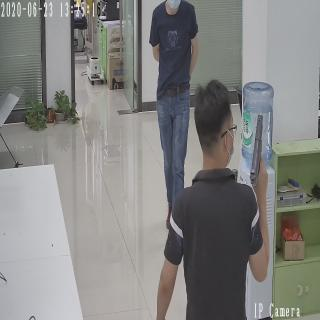gun: (248, 111, 270, 188)
